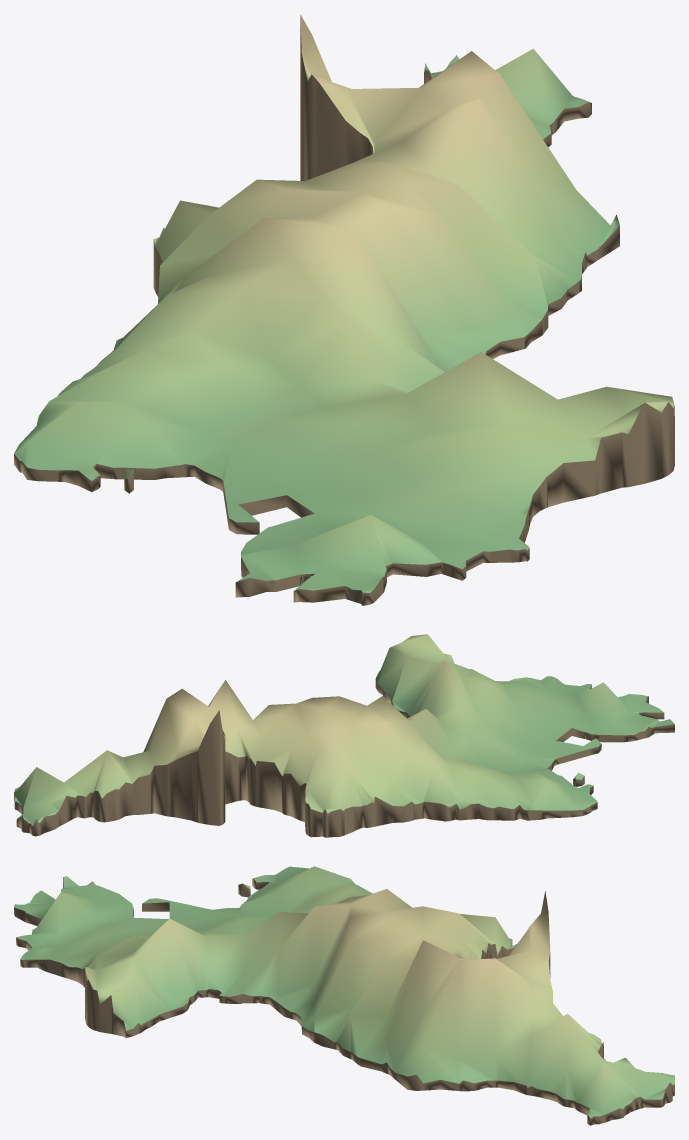
Rendered from PRK.glb.
The picture shows the model from 3 angles, top to bottom: view 1: azimuth 30°, elevation 25°; view 2: azimuth 150°, elevation 25°; view 3: azimuth 270°, elevation 25°; orthographic projection. The views are drawn at different scales.
Parts seen in each view (by area): view 1: PRK; view 2: PRK; view 3: PRK.
Boxes of the visible parts, box(x1,y1,x2,y2) form: PRK: box(14, 14, 674, 605); PRK: box(14, 634, 674, 837); PRK: box(14, 866, 674, 1125).
Size of the model in its own units: 1.37 by 0.338 by 1.53.
